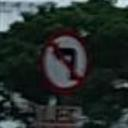NoVirarEsquerda: (44, 33, 90, 92)
